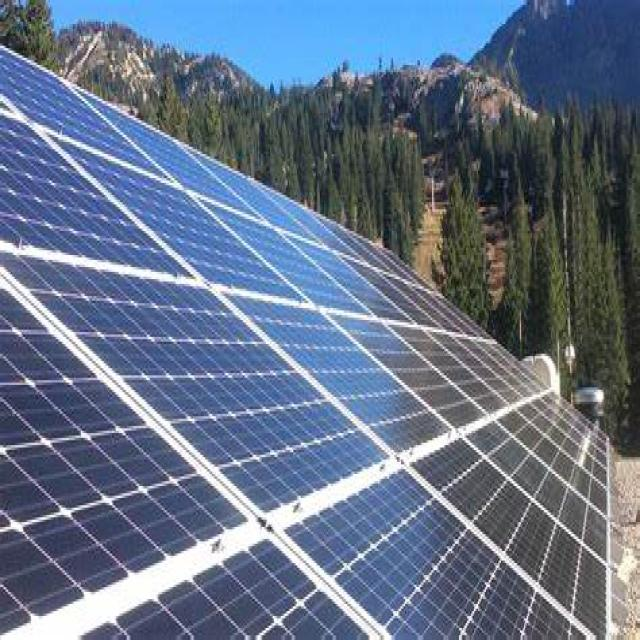clean-solar-panel: (0, 50, 611, 638)
